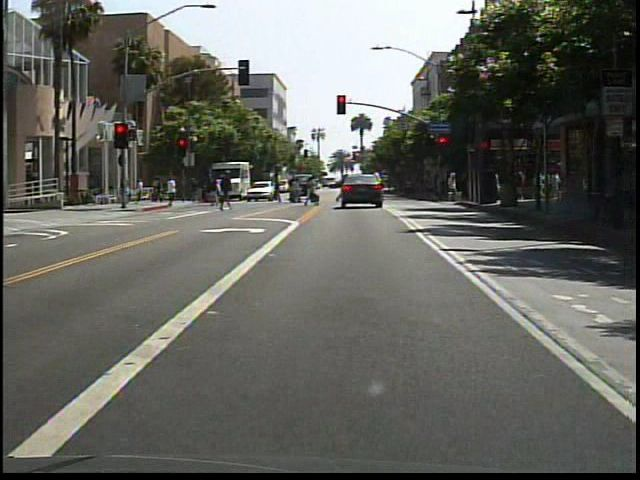person: (357, 164, 378, 210), (217, 170, 239, 213), (304, 173, 322, 210), (165, 176, 182, 210)
